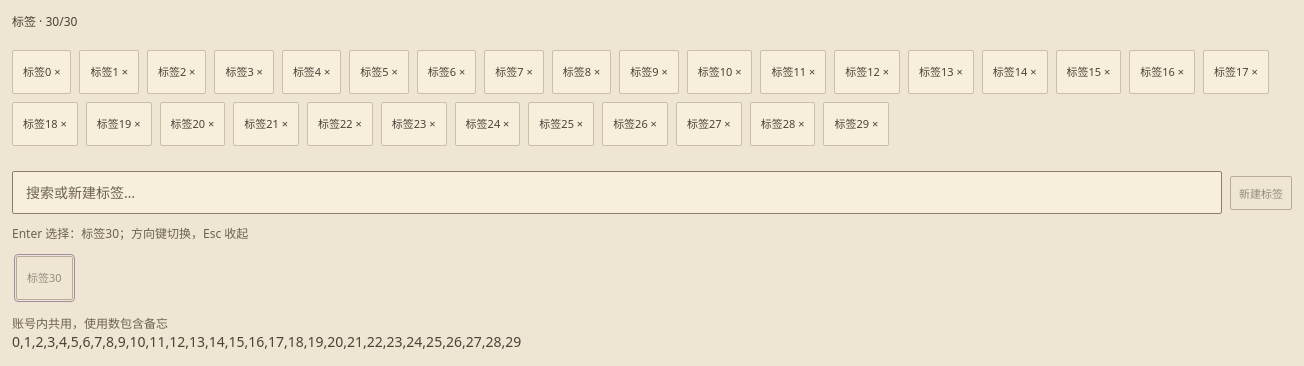
Test case: 30 selected tags block adding and creation but permit removal
Expected: the button "标签30" is disabled, 16,256 -> 73,300
Type "新名字" into the field at {"x": 617, "y": 192}, box 12,171 -> 1222,214
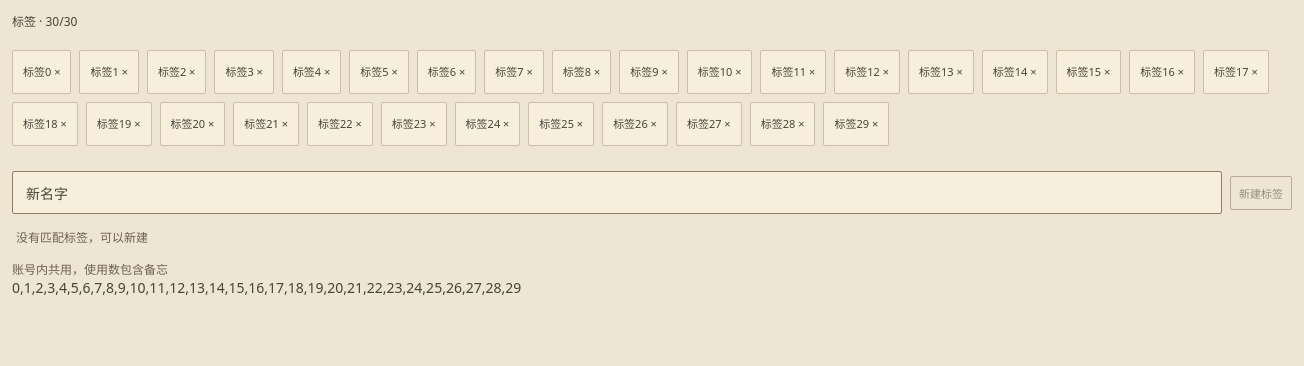
Expected: the button "新建标签" is disabled, 1230,176 -> 1292,210
Click the button with aria-label "移除 标签0" at {"x": 42, "y": 72}, box 12,50 -> 72,94
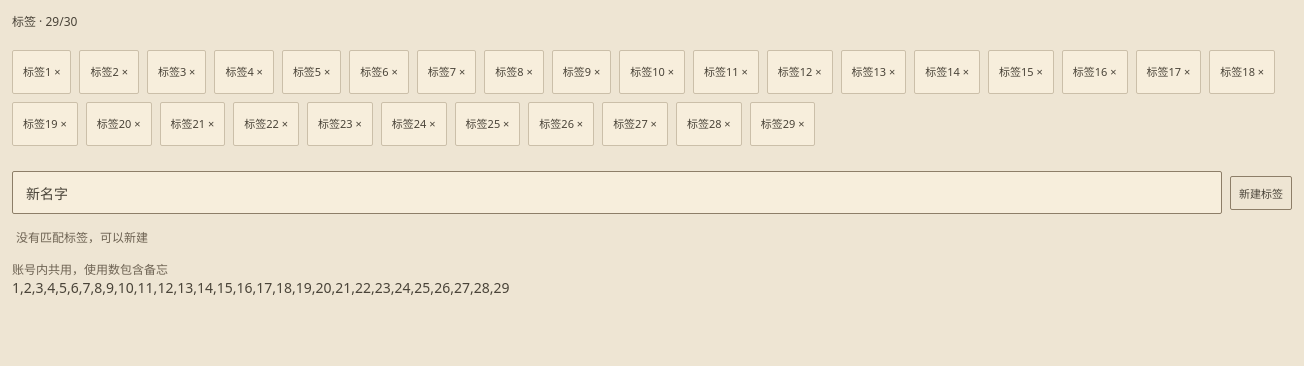
Expected: the button "新建标签" is enabled, 1230,176 -> 1292,210
